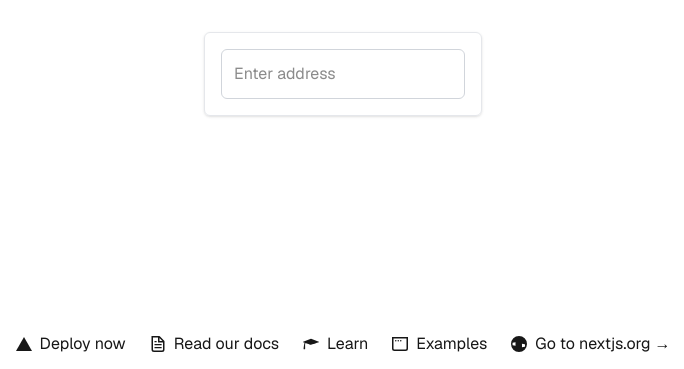
Test: Enter Address & Receive Instant Estimate › handles API failures gracefully
The image size is (684, 369).
Type "2323 E Highland Ave" into the field with placeholder "Enter address" at [343, 74], box [221, 49, 465, 99]
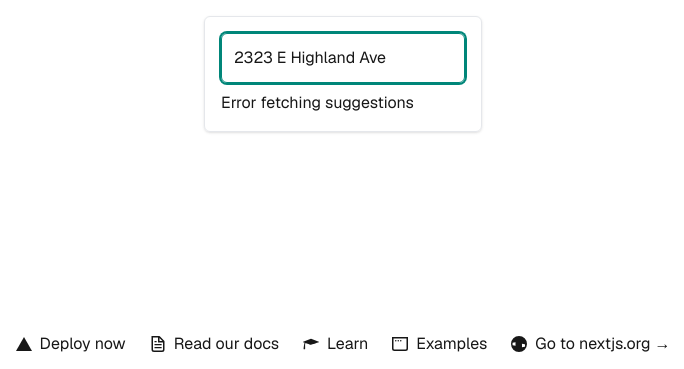
Check: the message "Error fetching suggestions" is shown, box [221, 92, 414, 113]
